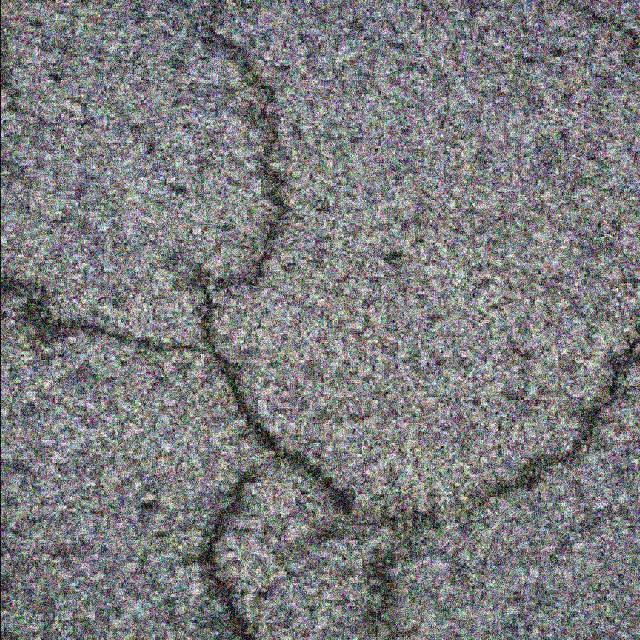SurfaceCrack: (34, 0, 616, 626)
